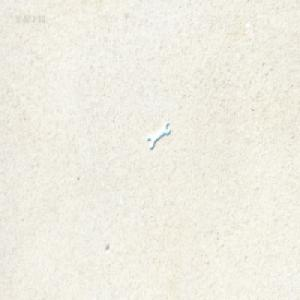Wrench: (146, 119, 168, 147)
